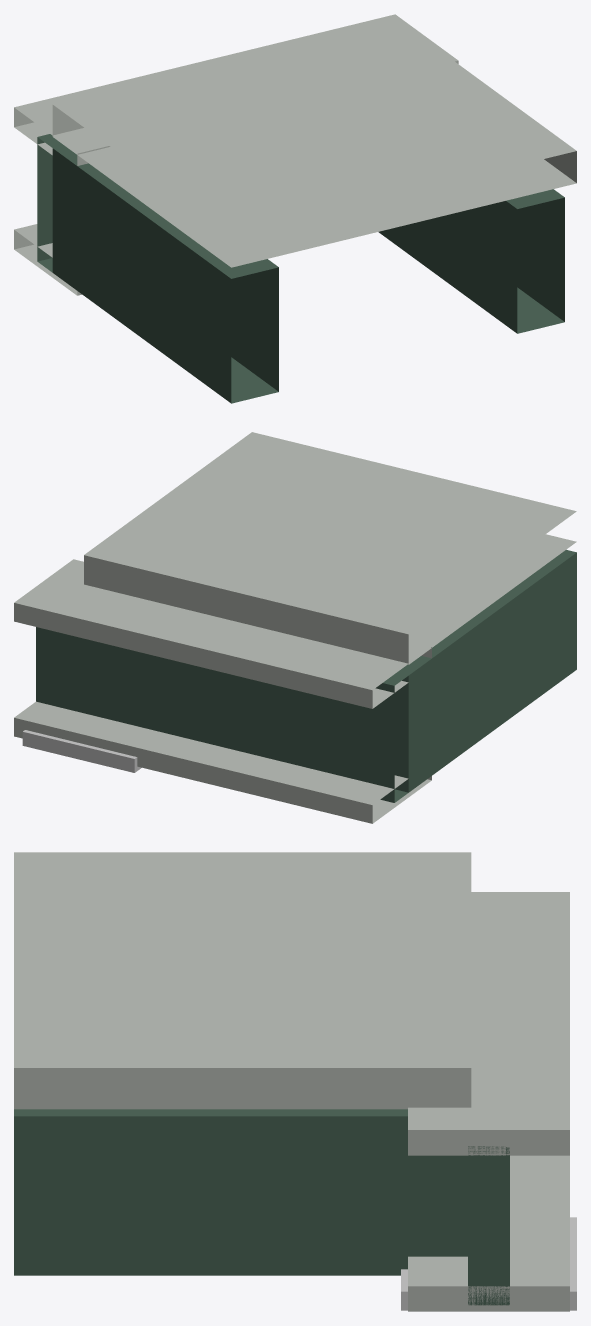
Rendered from cell_3.obj.
3 renders of one model, top to bottom at view 1: azimuth 30°, elevation 25°; view 2: azimuth 150°, elevation 25°; view 3: azimuth 270°, elevation 25°, orthographic. The views are drawn at different scales.
Size of the model in its own units: 1 by 0.4469 by 1.
